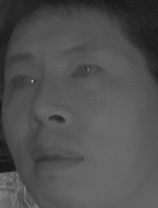eye: (67, 59, 104, 86), (6, 71, 36, 93)
mouth: (27, 140, 86, 177)
